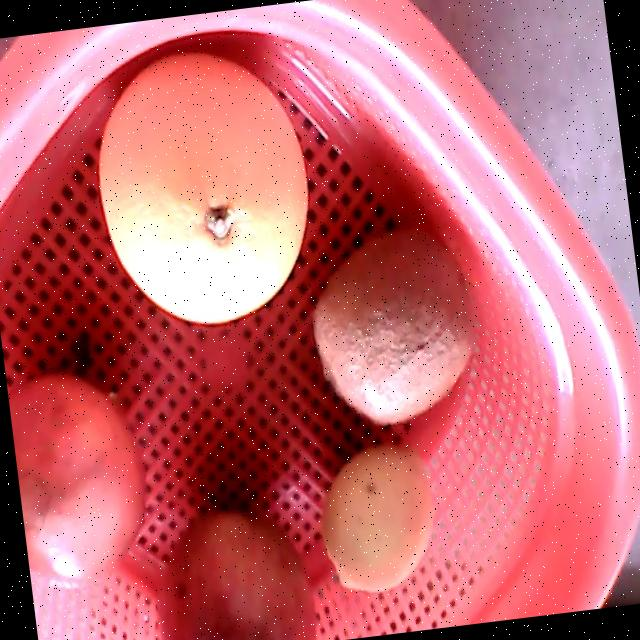apple: (156, 508, 316, 640)
kiwi: (311, 225, 478, 425)
lemon: (322, 447, 434, 591)
orange: (97, 63, 308, 324)
pomegranate: (8, 372, 147, 587)
